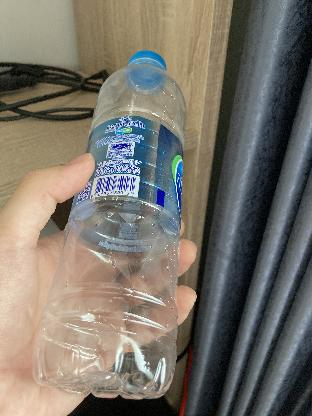Plastic Bottle: (32, 47, 189, 405)
